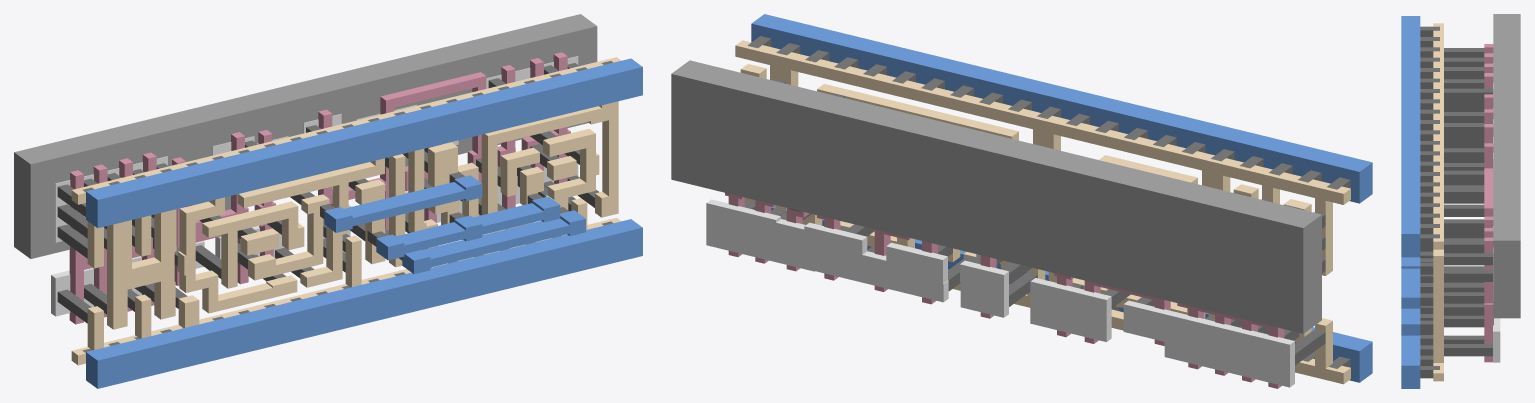
File: sky130_fd_sc_hd__xnor3_4.gds.gltf
3 views of the same model, side by side, from view 1: azimuth 30°, elevation 25°; view 2: azimuth 150°, elevation 25°; view 3: azimuth 270°, elevation 25° (orthographic). The views are drawn at different scales.
Visible parts, largest first — view 1: sky130_fd_sc_hd__xnor3_4_met1, sky130_fd_sc_hd__xnor3_4_li1, sky130_fd_sc_hd__xnor3_4_nwell, sky130_fd_sc_hd__xnor3_4_poly, sky130_fd_sc_hd__xnor3_4_licon, sky130_fd_sc_hd__xnor3_4_diff, sky130_fd_sc_hd__xnor3_4_mcon; view 2: sky130_fd_sc_hd__xnor3_4_nwell, sky130_fd_sc_hd__xnor3_4_diff, sky130_fd_sc_hd__xnor3_4_li1, sky130_fd_sc_hd__xnor3_4_met1, sky130_fd_sc_hd__xnor3_4_mcon, sky130_fd_sc_hd__xnor3_4_poly, sky130_fd_sc_hd__xnor3_4_licon; view 3: sky130_fd_sc_hd__xnor3_4_licon, sky130_fd_sc_hd__xnor3_4_nwell, sky130_fd_sc_hd__xnor3_4_met1, sky130_fd_sc_hd__xnor3_4_mcon, sky130_fd_sc_hd__xnor3_4_li1, sky130_fd_sc_hd__xnor3_4_poly, sky130_fd_sc_hd__xnor3_4_diff.
Boxes of the visible parts, bbox=[...] form: sky130_fd_sc_hd__xnor3_4_met1: bbox=[86, 58, 642, 388]; sky130_fd_sc_hd__xnor3_4_li1: bbox=[71, 57, 621, 365]; sky130_fd_sc_hd__xnor3_4_nwell: bbox=[14, 14, 597, 258]; sky130_fd_sc_hd__xnor3_4_poly: bbox=[69, 52, 570, 324]; sky130_fd_sc_hd__xnor3_4_licon: bbox=[57, 63, 599, 323]; sky130_fd_sc_hd__xnor3_4_diff: bbox=[51, 56, 578, 316]; sky130_fd_sc_hd__xnor3_4_mcon: bbox=[82, 61, 613, 352]; sky130_fd_sc_hd__xnor3_4_nwell: bbox=[671, 60, 1321, 333]; sky130_fd_sc_hd__xnor3_4_diff: bbox=[706, 199, 1294, 387]; sky130_fd_sc_hd__xnor3_4_li1: bbox=[735, 40, 1350, 384]; sky130_fd_sc_hd__xnor3_4_met1: bbox=[751, 14, 1372, 382]; sky130_fd_sc_hd__xnor3_4_mcon: bbox=[747, 36, 1350, 368]; sky130_fd_sc_hd__xnor3_4_poly: bbox=[725, 193, 1284, 388]; sky130_fd_sc_hd__xnor3_4_licon: bbox=[744, 79, 1325, 365]; sky130_fd_sc_hd__xnor3_4_licon: bbox=[1444, 48, 1492, 356]; sky130_fd_sc_hd__xnor3_4_nwell: bbox=[1493, 14, 1520, 318]; sky130_fd_sc_hd__xnor3_4_met1: bbox=[1401, 16, 1420, 388]; sky130_fd_sc_hd__xnor3_4_mcon: bbox=[1420, 26, 1439, 378]; sky130_fd_sc_hd__xnor3_4_li1: bbox=[1433, 23, 1443, 381]; sky130_fd_sc_hd__xnor3_4_poly: bbox=[1484, 44, 1493, 362]; sky130_fd_sc_hd__xnor3_4_diff: bbox=[1493, 63, 1500, 362].
Size of the model in its own units: 10.04 by 3.2 by 2.24.
